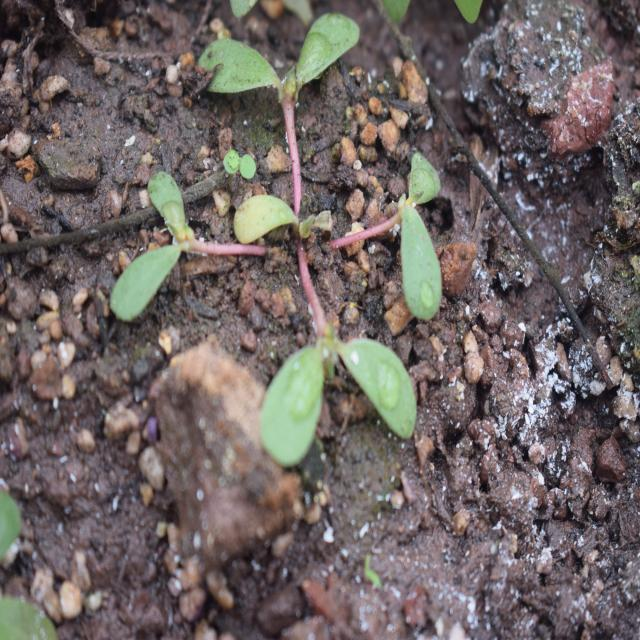purslane: (113, 15, 465, 481)
